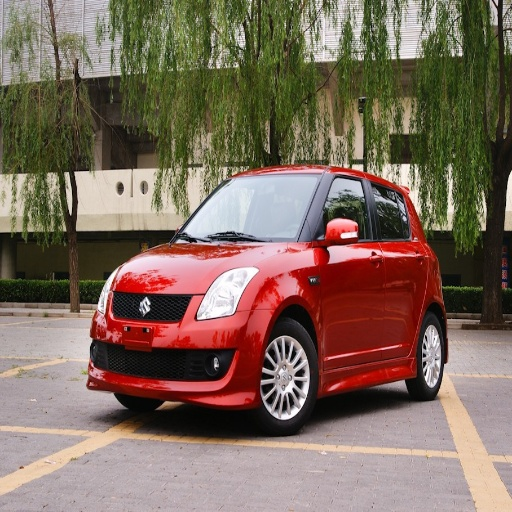front_bumper: (93, 293, 270, 404)
front_glass: (172, 174, 323, 242)
front_left_door: (314, 174, 382, 368)
